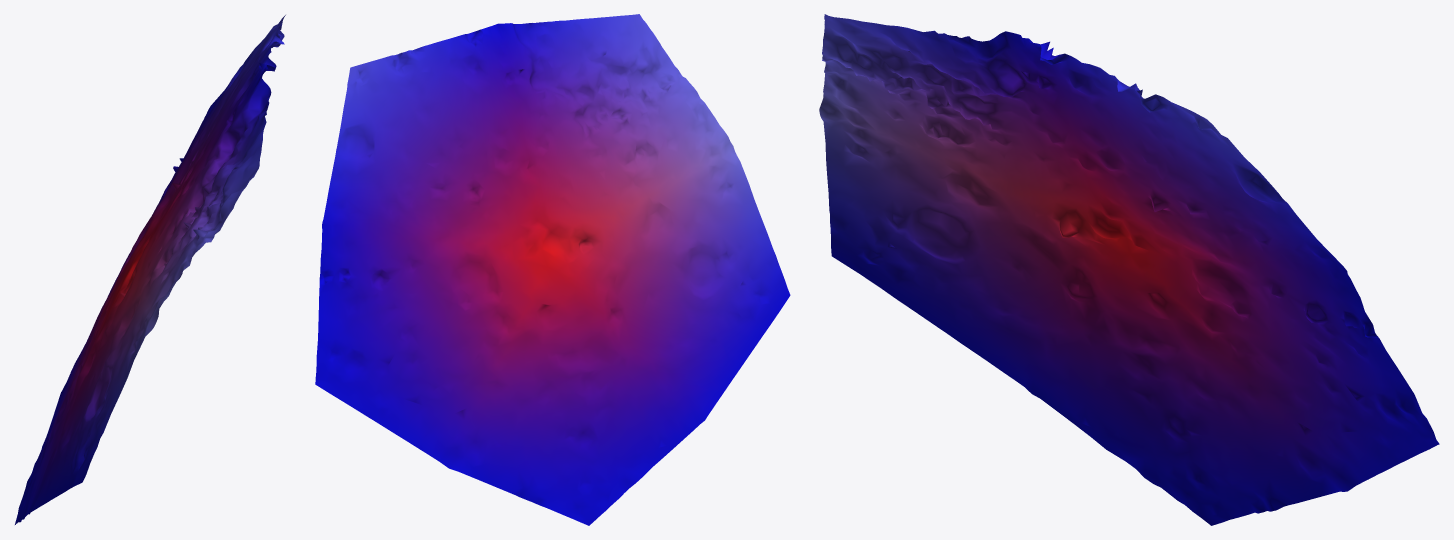
Rendered from Hex_35.fbx.
3 views of the same model, side by side, from view 1: azimuth 30°, elevation 25°; view 2: azimuth 150°, elevation 25°; view 3: azimuth 270°, elevation 25° (orthographic). The views are drawn at different scales.
Parts seen in each view (by area): view 1: Hex_35; view 2: Hex_35; view 3: Hex_35.
Boxes of the visible parts, x1,y1,x2,y2 form: Hex_35: [15, 15, 285, 524]; Hex_35: [315, 14, 790, 525]; Hex_35: [819, 14, 1439, 525].
Size of the model in its own units: 289 by 369 by 345.
